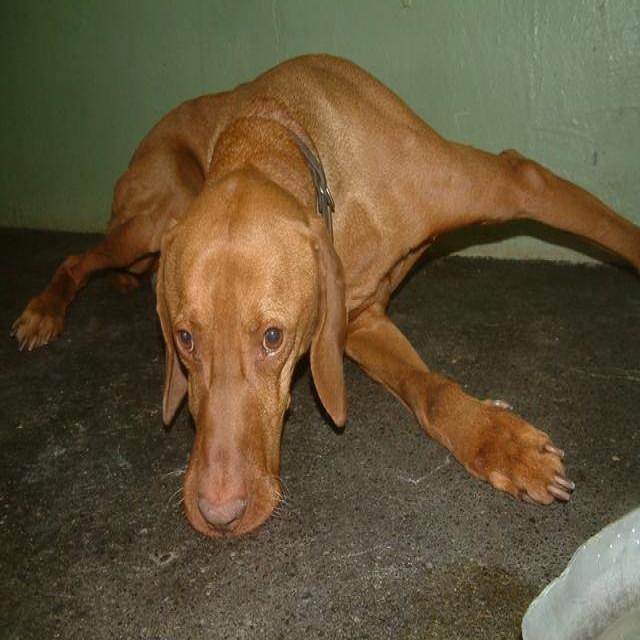vizsla: (7, 51, 637, 538)
